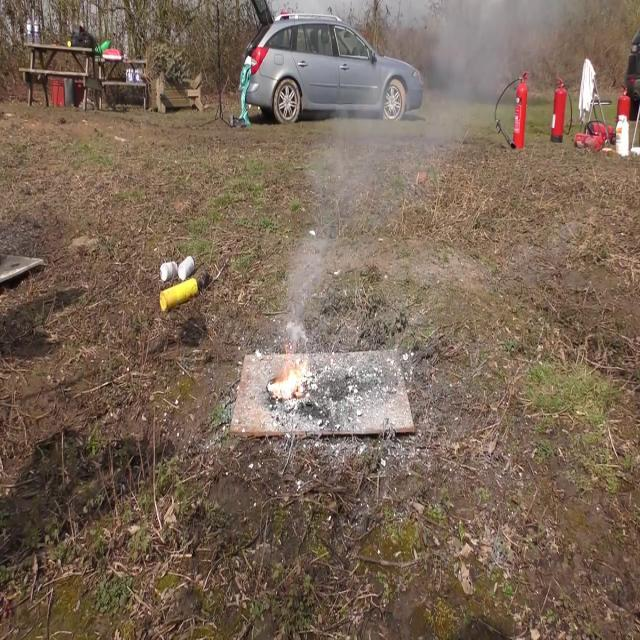Fire: (270, 354, 312, 400)
Smoke: (279, 224, 332, 354)
